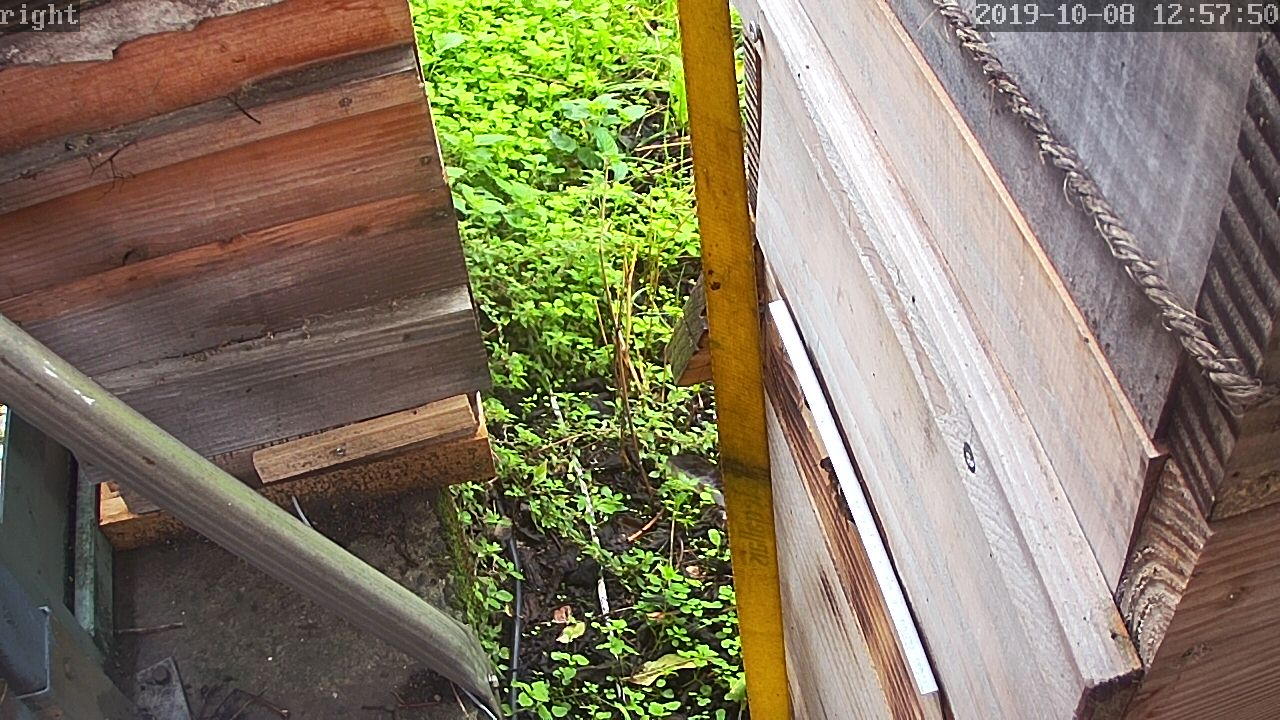bee: (811, 454, 846, 501), (826, 484, 861, 528)
